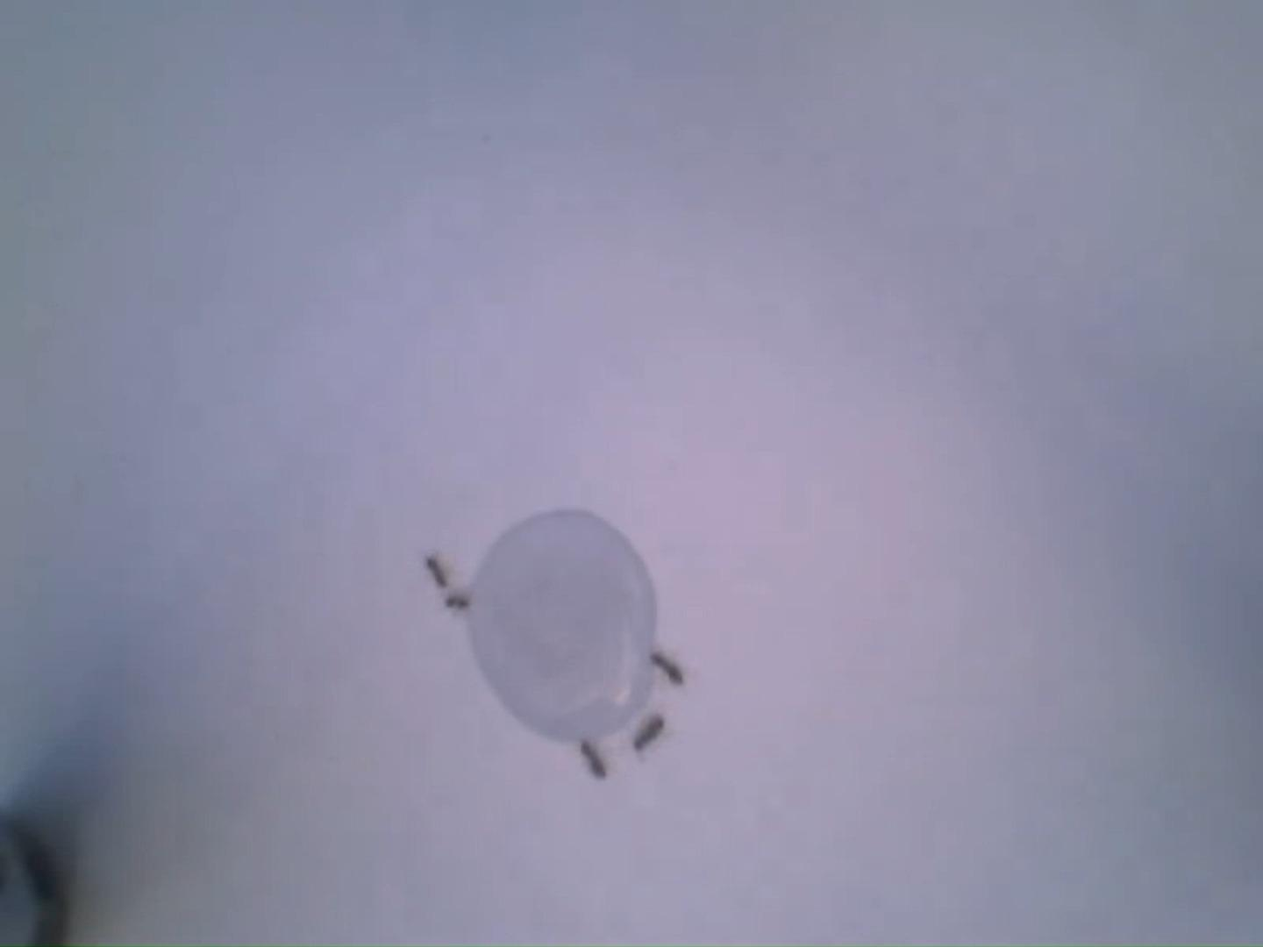Ant: (634, 712, 669, 750), (655, 648, 686, 683), (584, 738, 609, 777), (427, 551, 451, 586), (446, 591, 473, 610)
